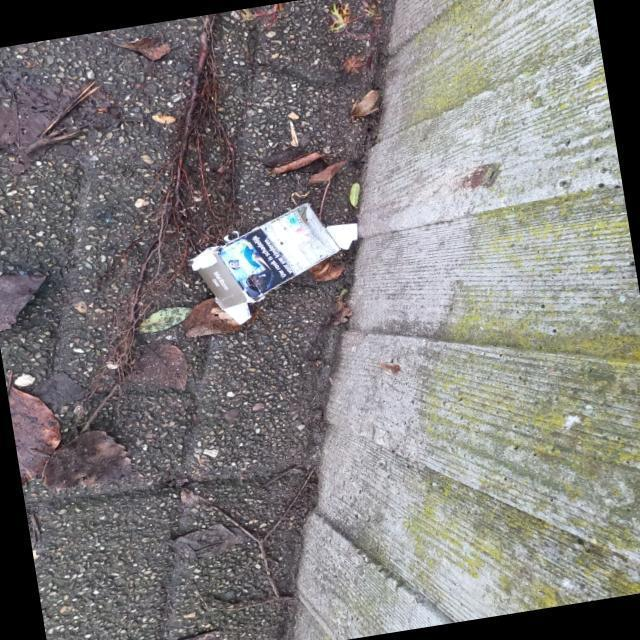Paper: (182, 199, 362, 329)
